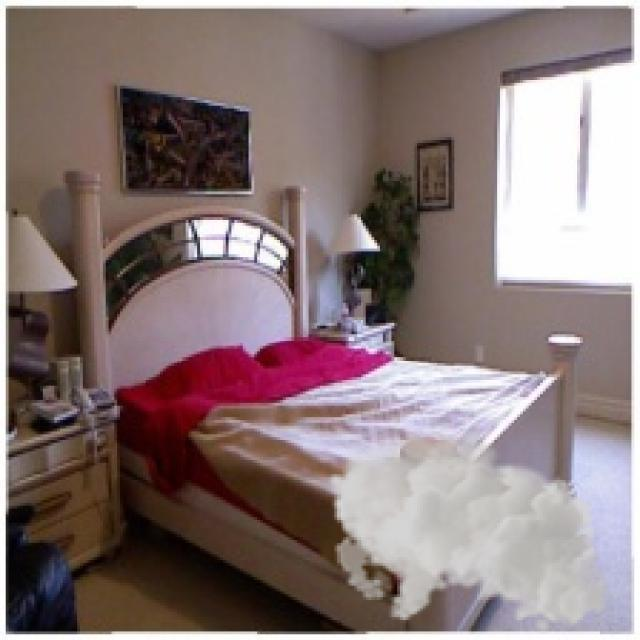Smoke: (326, 423, 608, 634)
